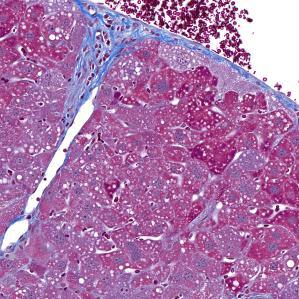fibrosis: (69, 26, 127, 91)
